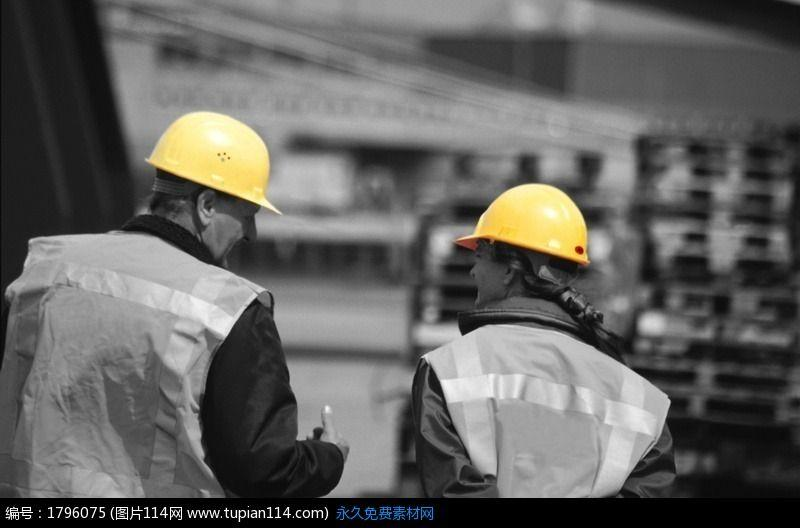helmet: (142, 109, 292, 218), (456, 175, 596, 265)
